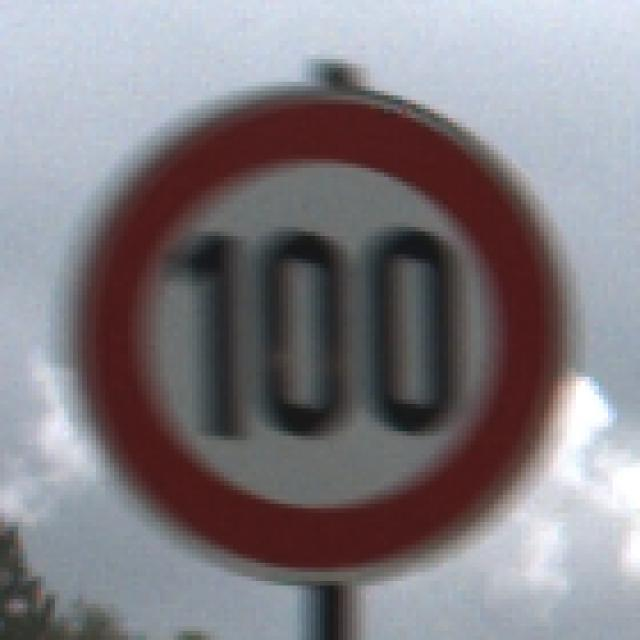speed limit 100: (55, 86, 575, 588)
